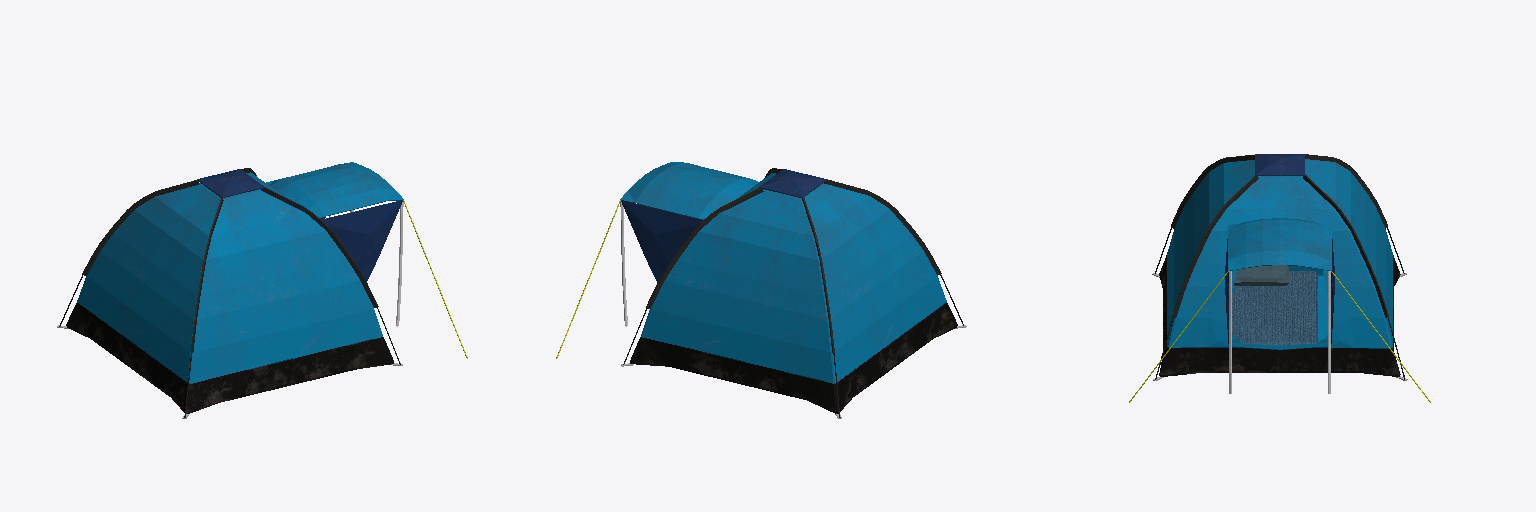
3 views of the same model, side by side, from view 1: azimuth 30°, elevation 25°; view 2: azimuth 150°, elevation 25°; view 3: azimuth 270°, elevation 25° (orthographic).
Parts seen in each view (by area): view 1: Walls_meshId2_name, Door_meshId0_name, Karkas_meshId1_name; view 2: Walls_meshId2_name, Door_meshId0_name, Karkas_meshId1_name; view 3: Walls_meshId2_name, Door_meshId0_name, Krovat_meshId3_name, Karkas_meshId1_name.
Boxes of the visible parts, x1=… form: Walls_meshId2_name: x1=66, y1=172, x2=393, y2=413; Door_meshId0_name: x1=266, y1=162, x2=467, y2=358; Karkas_meshId1_name: x1=57, y1=168, x2=402, y2=418; Walls_meshId2_name: x1=630, y1=173, x2=957, y2=413; Door_meshId0_name: x1=556, y1=162, x2=758, y2=358; Karkas_meshId1_name: x1=621, y1=168, x2=966, y2=418; Walls_meshId2_name: x1=1159, y1=159, x2=1400, y2=376; Door_meshId0_name: x1=1129, y1=218, x2=1430, y2=402; Krovat_meshId3_name: x1=1232, y1=265, x2=1317, y2=344; Karkas_meshId1_name: x1=1152, y1=154, x2=1407, y2=380.
Size of the model in its own units: 0.02 by 0.0118 by 0.0192.
1 materials, 1 textured.